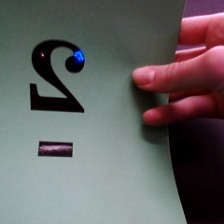green2: (23, 33, 94, 165)
